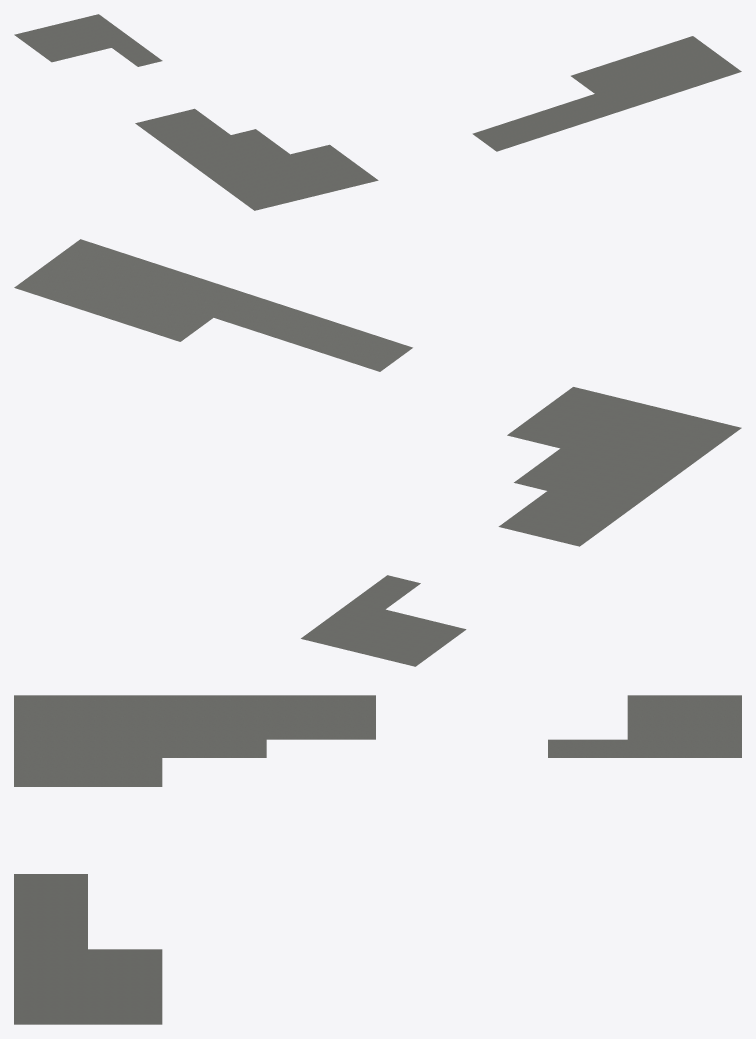
Rendered from kd_stage_135b75_2_9.glb.
3 renders of one model, top to bottom at view 1: azimuth 30°, elevation 25°; view 2: azimuth 150°, elevation 25°; view 3: azimuth 270°, elevation 25°, orthographic. The views are drawn at different scales.
Parts seen in each view (by area): view 1: kd_stage_135b75_2_9; view 2: kd_stage_135b75_2_9; view 3: kd_stage_135b75_2_9.
Boxes of the visible parts, x1,y1,x2,y2 form: kd_stage_135b75_2_9: (14,14,741,210); kd_stage_135b75_2_9: (14,239,741,666); kd_stage_135b75_2_9: (14,695,741,1024).
Size of the model in its own units: 16.67 by 0.6592 by 14.25.
1 material, 1 textured.
